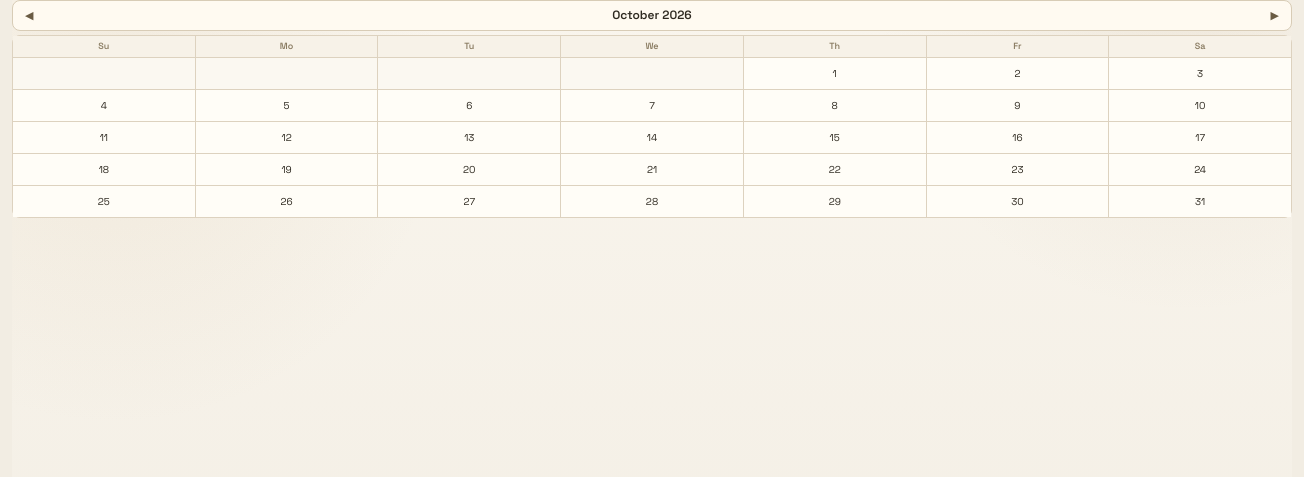
Test: Calendar › creates an appointment at the picked local time
Click the button "15".
click(835, 138)  # box [744,122,926,153]
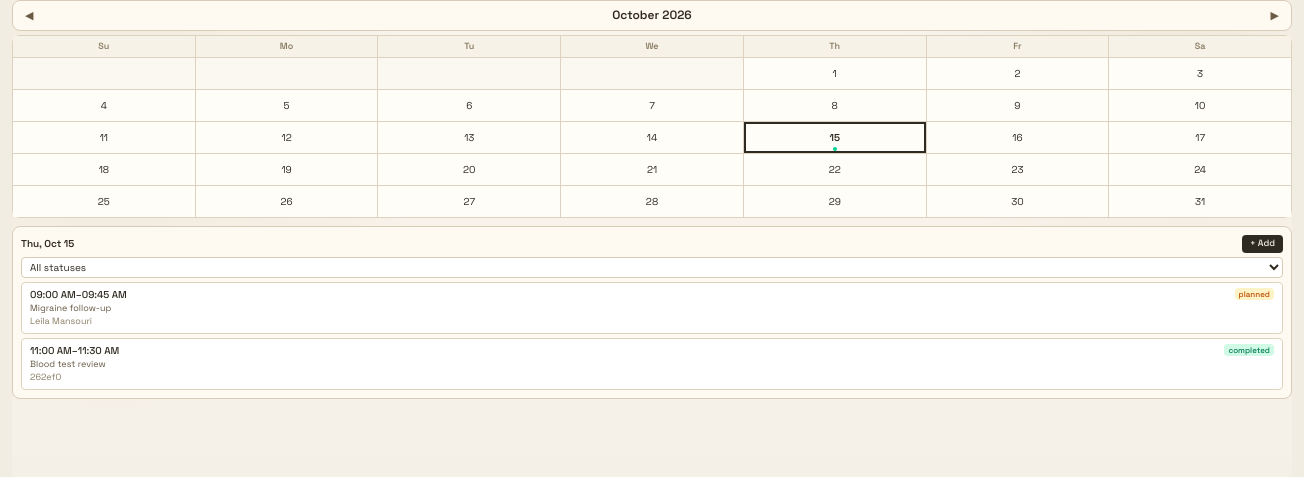
Click the button "+ Add".
click(1262, 244)  # box [1242,235,1283,252]
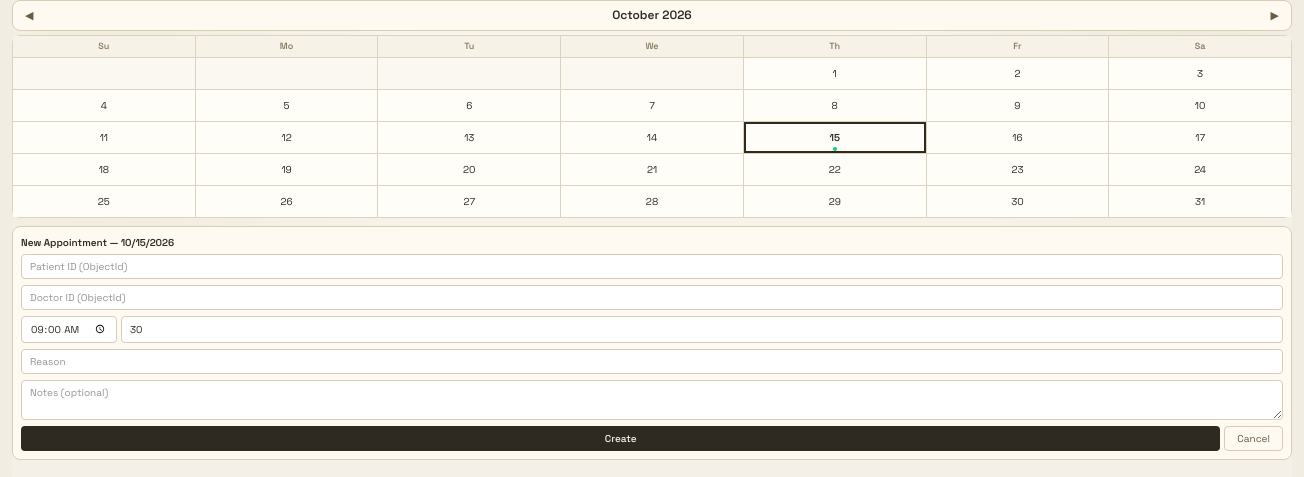
Type "p1" into the field with placeholder "Patient ID (ObjectId)".
click(652, 266); type("p1")  # box [21,254,1283,279]
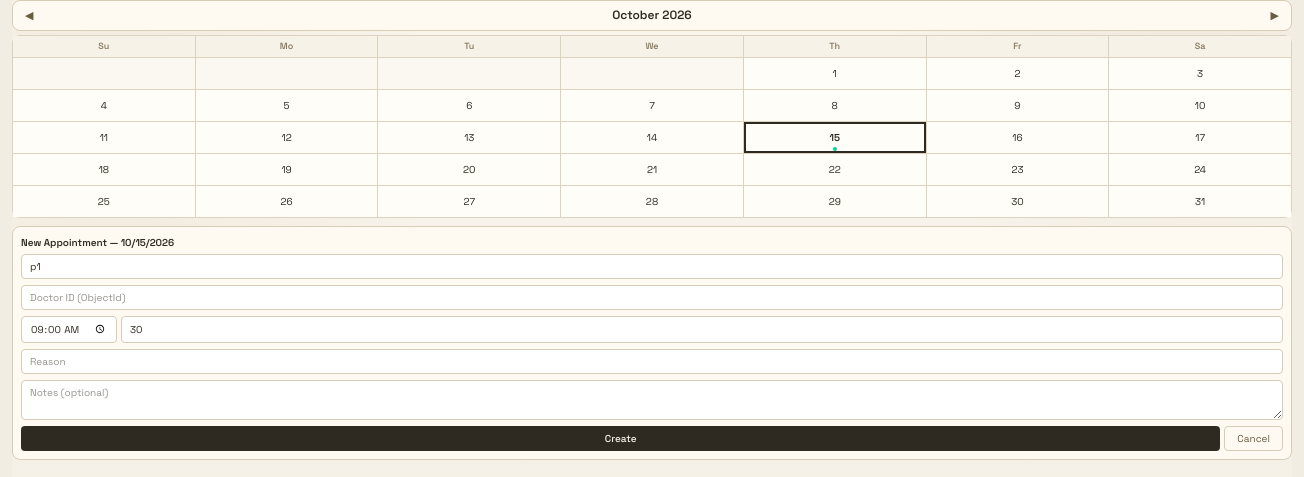
Type "d1" into the field with placeholder "Doctor ID (ObjectId)".
click(652, 298); type("d1")  # box [21,285,1283,310]
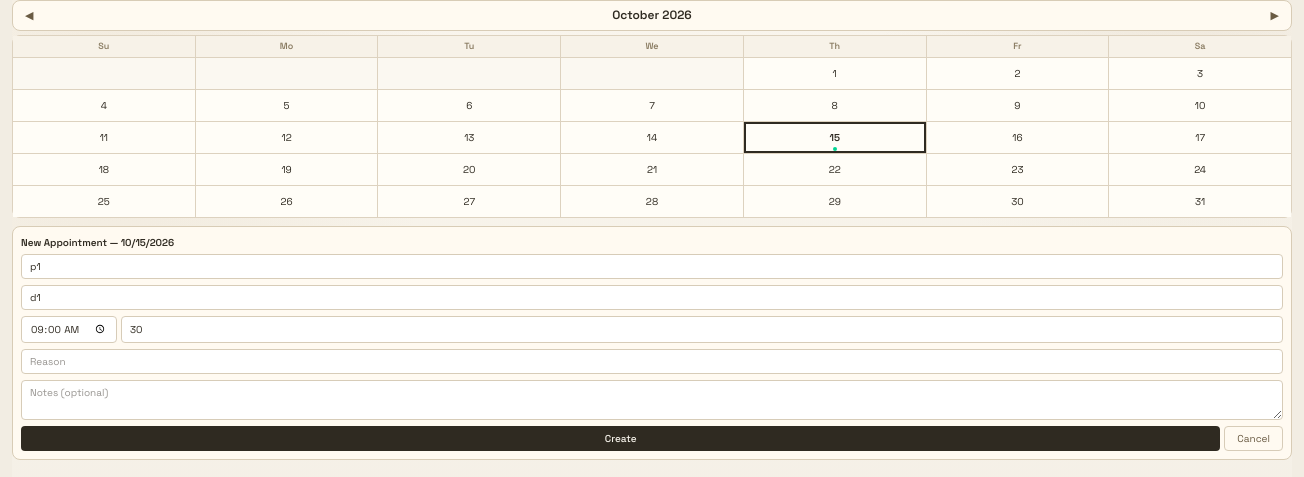
Type "Check-up" into the field with placeholder "Reason".
click(652, 361); type("Check-up")  # box [21,348,1283,374]
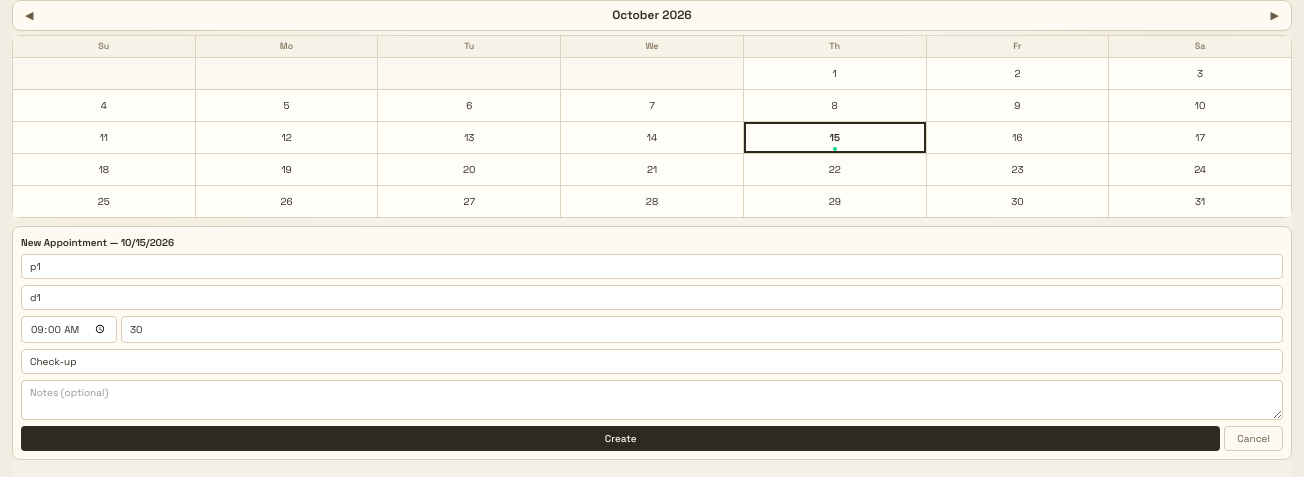
Click the button "Create".
click(621, 438)  # box [21,426,1220,450]
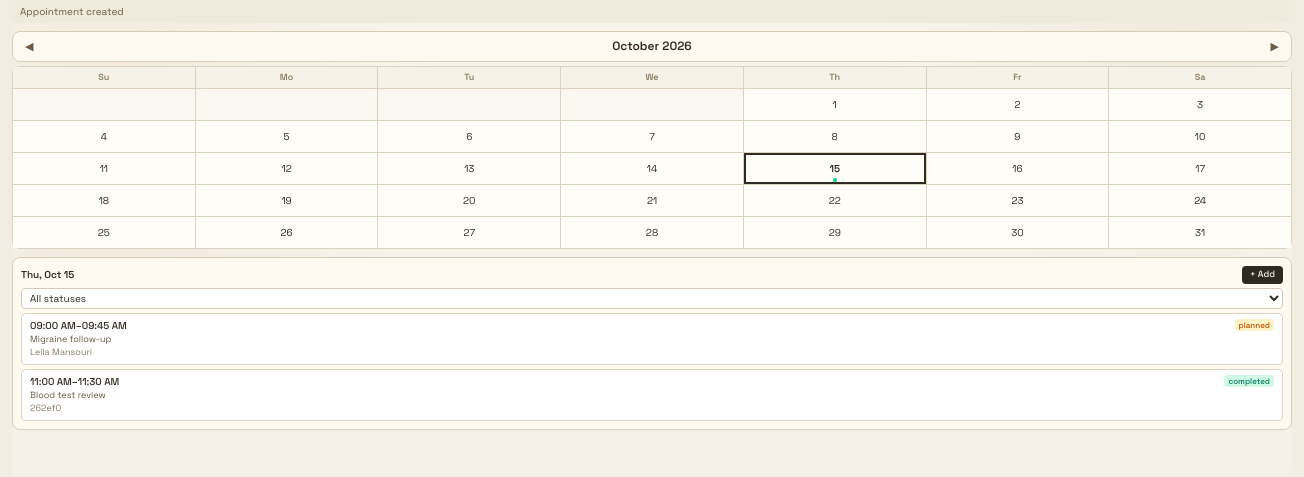
Result: the text "Appointment created" is shown at [12,0,1292,23]
